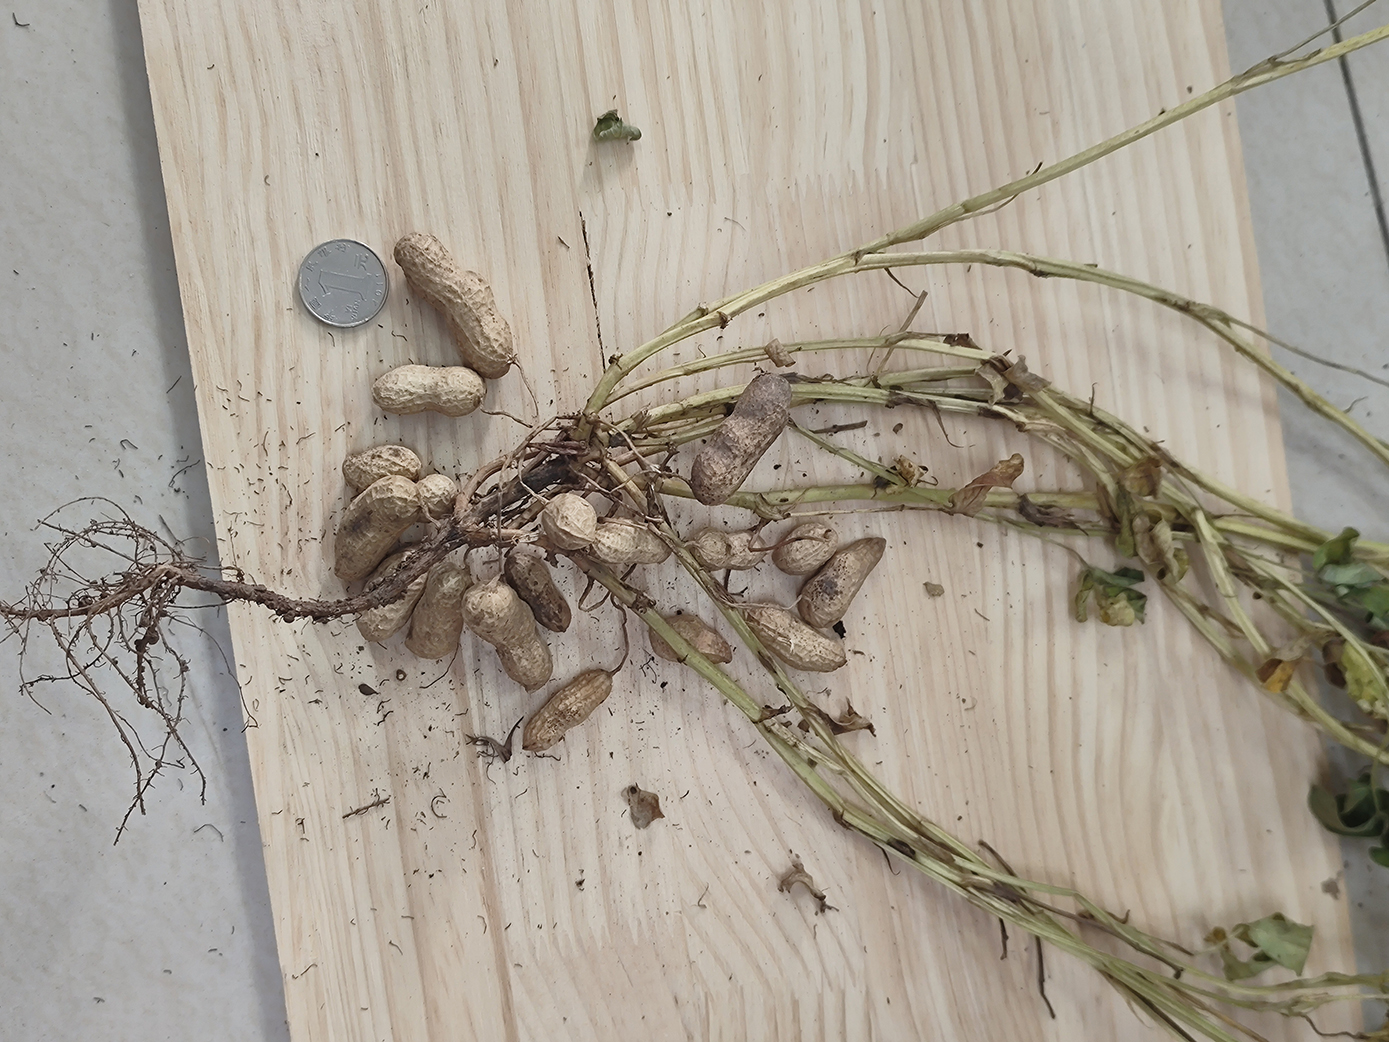h: (394, 231, 514, 379), (332, 475, 456, 581), (458, 581, 553, 691), (354, 544, 439, 641), (798, 536, 887, 628), (521, 669, 613, 752), (742, 601, 848, 672), (404, 563, 470, 659), (370, 364, 486, 416), (505, 553, 571, 634), (649, 615, 732, 665), (586, 518, 673, 564), (342, 445, 423, 490), (772, 523, 840, 576), (541, 491, 595, 551), (692, 528, 765, 570)
l: (690, 374, 792, 506)
